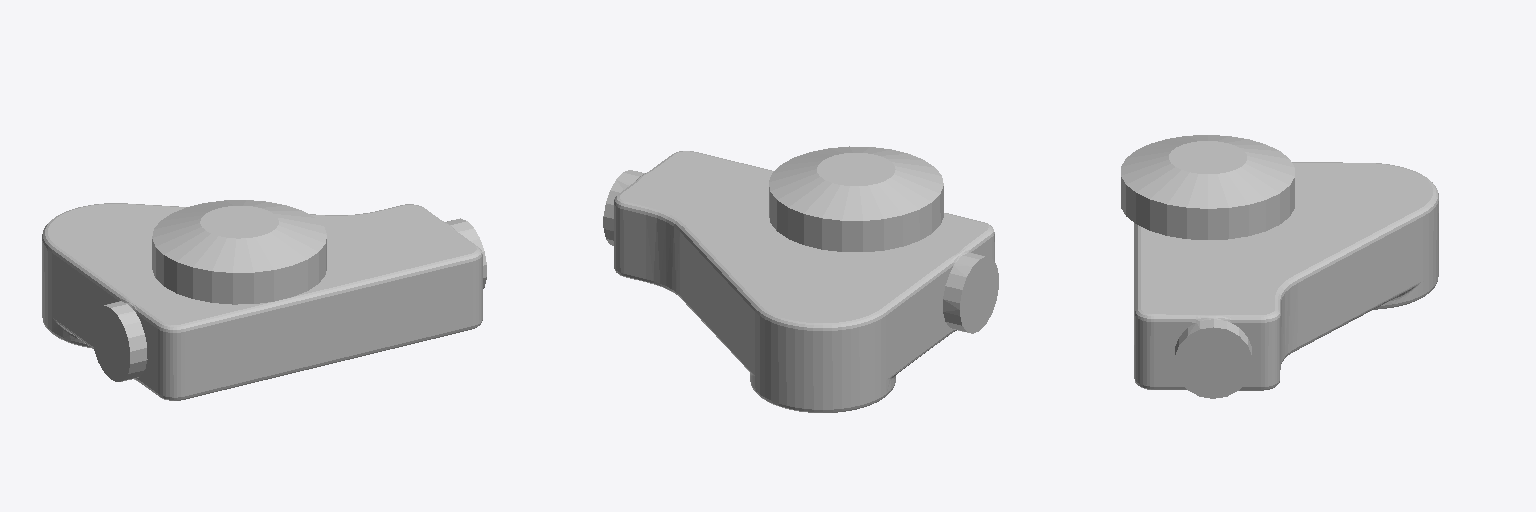
File: bolt_hip_fe_right_side.obj
The picture shows the model from 3 angles: view 1: azimuth 30°, elevation 25°; view 2: azimuth 150°, elevation 25°; view 3: azimuth 270°, elevation 25°; orthographic projection.
Parts seen in each view (by area): view 1: obj1; view 2: obj1; view 3: obj1.
Part boxes in pixels (x1,y1,x2,y2): obj1: (42,200,486,400); obj1: (603,146,998,412); obj1: (1121,135,1438,398).
Size of the model in its own units: 0.1043 by 0.0409 by 0.0806.